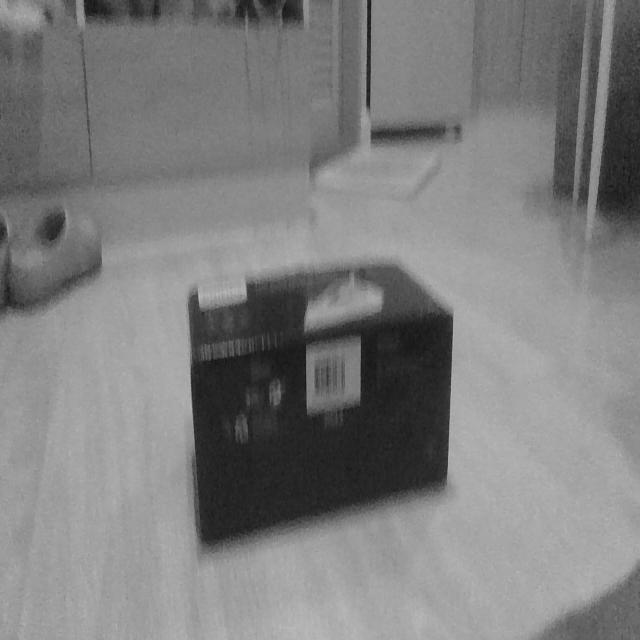IRON: (184, 255, 456, 547)
